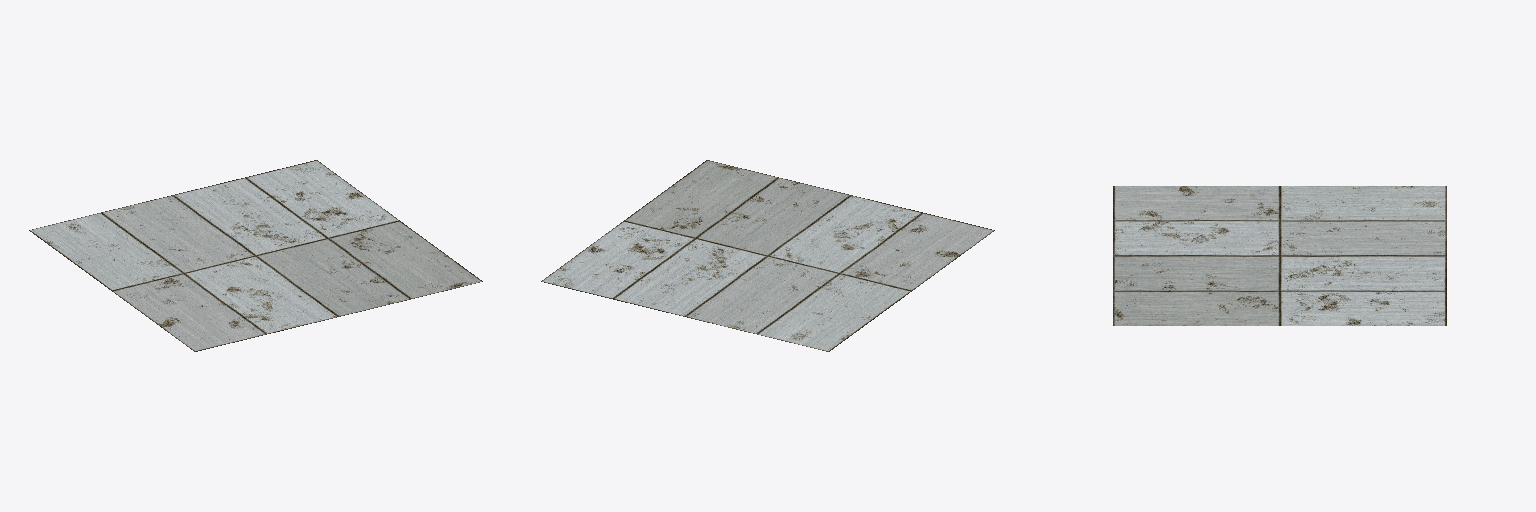
The picture shows the model from 3 angles: view 1: azimuth 30°, elevation 25°; view 2: azimuth 150°, elevation 25°; view 3: azimuth 270°, elevation 25°; orthographic projection.
Visible parts, largest first — view 1: Plane; view 2: Plane; view 3: Plane.
Boxes of the visible parts, <box> form: Plane: <box>29,160,482,351</box>; Plane: <box>541,160,994,351</box>; Plane: <box>1113,186,1446,325</box>.
Size of the model in its own units: 2000 by 0 by 2000.
Materials: 1 (1 with a texture image).